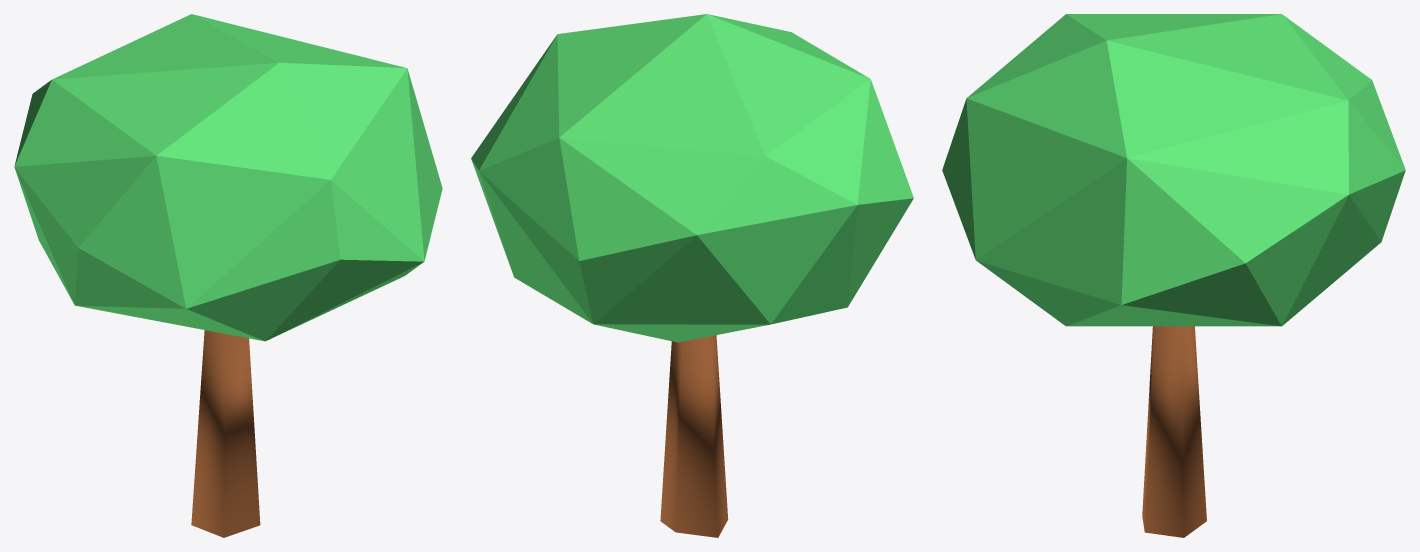
Rendered from TreeV1.fbx.
The picture shows the model from 3 angles, left to right: view 1: azimuth 30°, elevation 25°; view 2: azimuth 150°, elevation 25°; view 3: azimuth 270°, elevation 25°; orthographic projection. The views are drawn at different scales.
Parts seen in each view (by area): view 1: Cylinder; view 2: Cylinder; view 3: Cylinder.
Boxes of the visible parts, x1,y1,x2,y2 form: Cylinder: (14, 14, 442, 537); Cylinder: (471, 14, 913, 537); Cylinder: (942, 14, 1405, 537).
Bounding box in the file's own units: 636 × 770 × 654.
